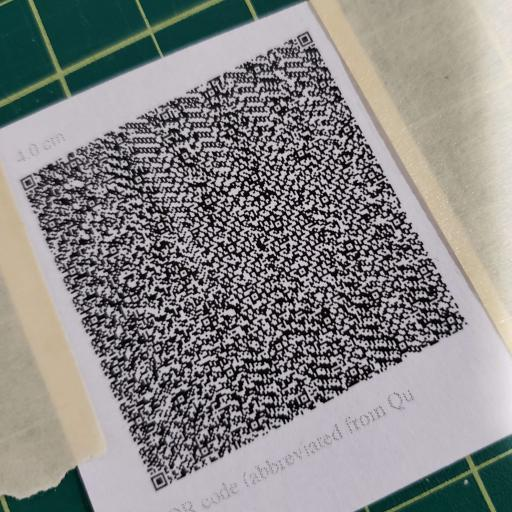QR_CODE: (13, 20, 484, 496)
